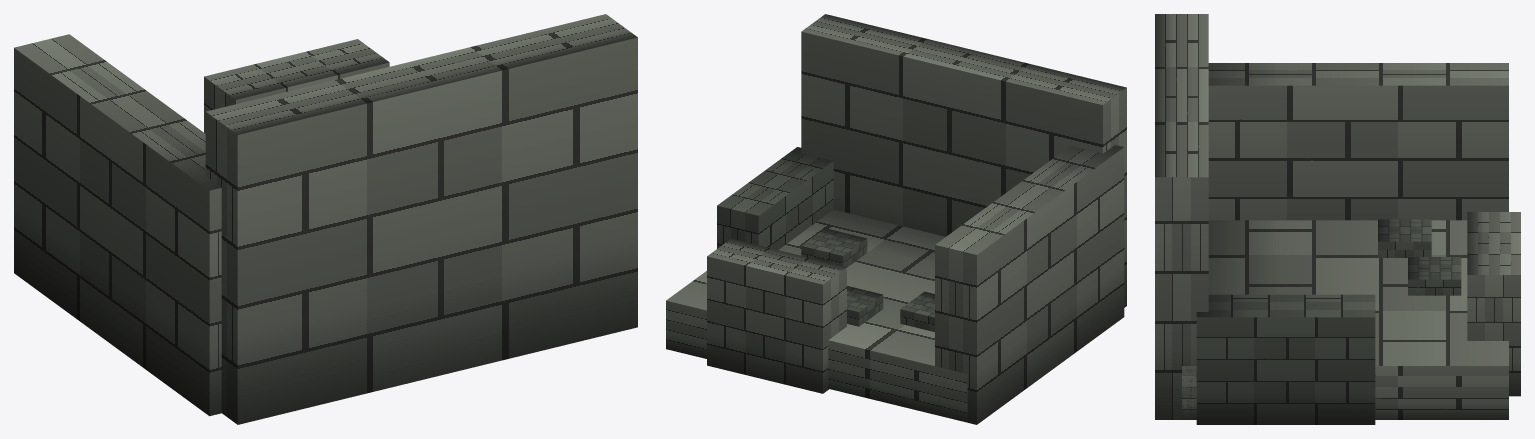
The model's file is ruined_house.gltf.
The picture shows the model from 3 angles, left to right: view 1: azimuth 30°, elevation 25°; view 2: azimuth 150°, elevation 25°; view 3: azimuth 270°, elevation 25°; orthographic projection. The views are drawn at different scales.
Parts seen in each view (by area): view 1: ruined_house; view 2: ruined_house; view 3: ruined_house.
Part boxes in pixels (x1,y1,x2,y2): ruined_house: (14, 14, 637, 424); ruined_house: (666, 14, 1126, 424); ruined_house: (1155, 14, 1520, 424).
Bounding box in the file's own units: 1.38 × 0.905 × 1.23.
Materials: 1 (1 with a texture image).
